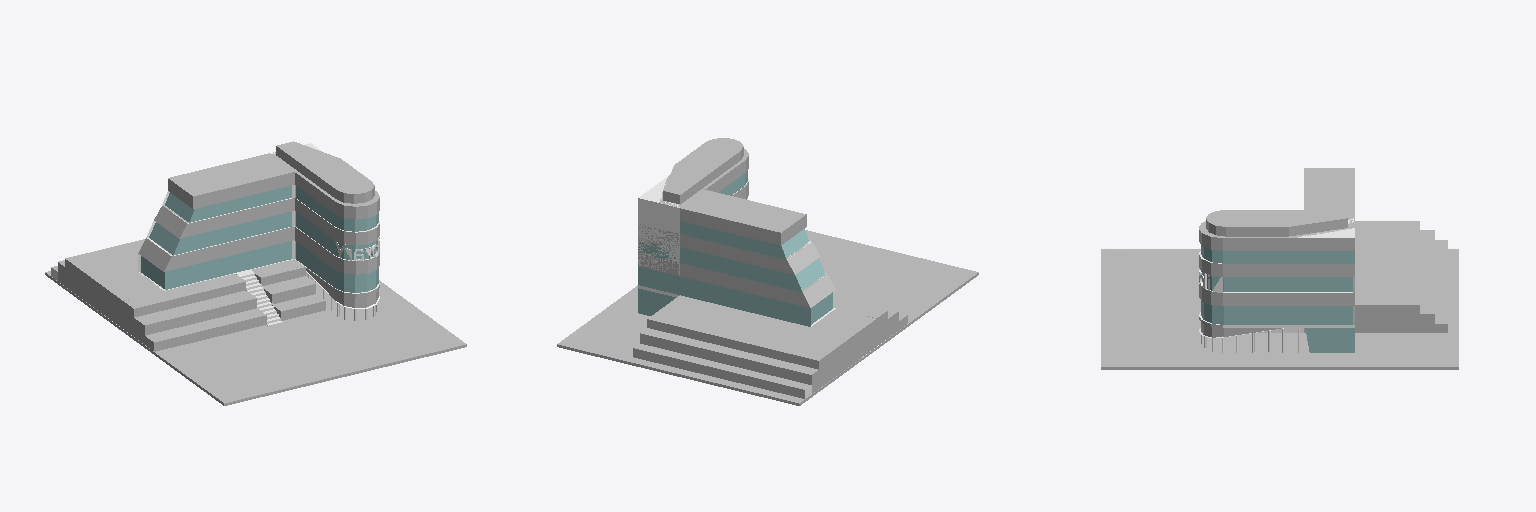
Rendered from Library.obj.
3 renders of one model, left to right at view 1: azimuth 30°, elevation 25°; view 2: azimuth 150°, elevation 25°; view 3: azimuth 270°, elevation 25°, orthographic.
Parts seen in each view (by area): view 1: Boole.1; view 2: Boole.1; view 3: Boole.1.
Boxes of the visible parts, x1=… form: Boole.1: x1=45, y1=141, x2=466, y2=405; Boole.1: x1=557, y1=138, x2=978, y2=405; Boole.1: x1=1101, y1=168, x2=1458, y2=369.
Size of the model in its own units: 583 by 333 by 746.